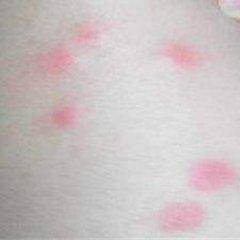Fleas: (189, 159, 235, 191), (159, 201, 204, 232), (165, 38, 202, 75), (44, 44, 74, 74), (52, 106, 78, 127), (73, 25, 98, 43)
